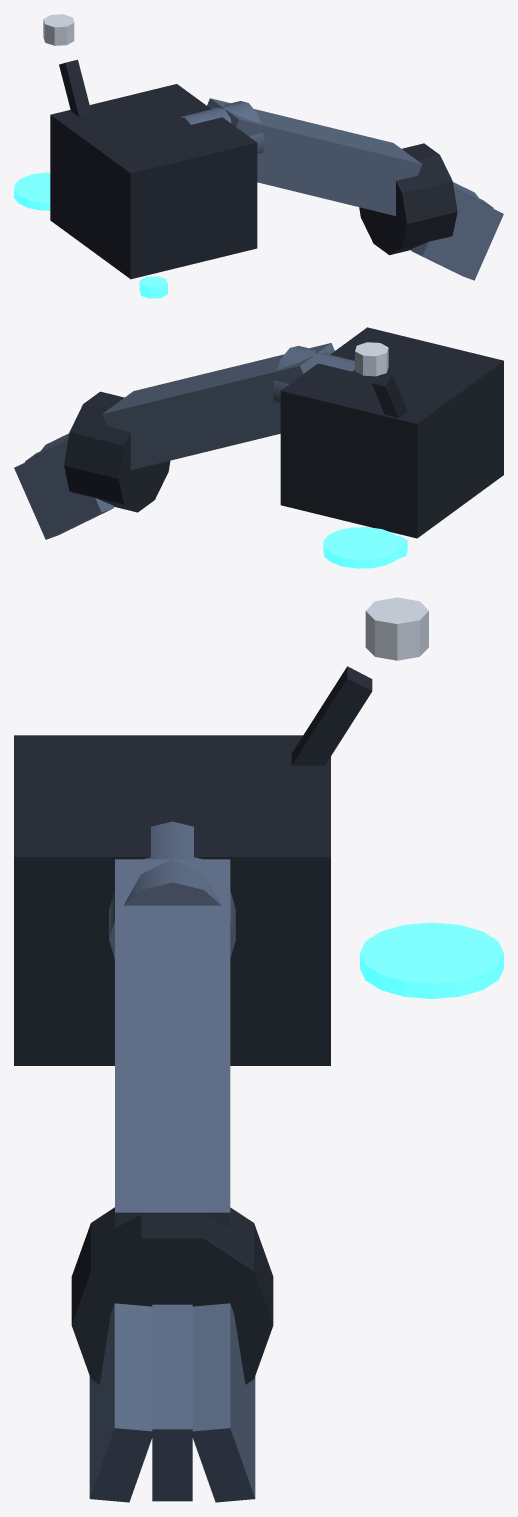
Rendered from mod_ancla.fbx.
3 renders of one model, top to bottom at view 1: azimuth 30°, elevation 25°; view 2: azimuth 150°, elevation 25°; view 3: azimuth 270°, elevation 25°, orthographic. The views are drawn at different scales.
Parts seen in each view (by area): view 1: Ancla, Ancla_Marca, Ancla_Conectores; view 2: Ancla, Ancla_Marca; view 3: Ancla, Ancla_Marca.
Boxes of the visible parts, x1,y1,x2,y2 form: Ancla: (43, 14, 503, 280); Ancla_Marca: (14, 172, 50, 210); Ancla_Conectores: (139, 276, 167, 298); Ancla: (14, 327, 503, 539); Ancla_Marca: (323, 527, 401, 568); Ancla: (14, 597, 428, 1502); Ancla_Marca: (360, 922, 503, 998).
Bounding box in the file's own units: 0.8968 × 0.609 × 0.476.
